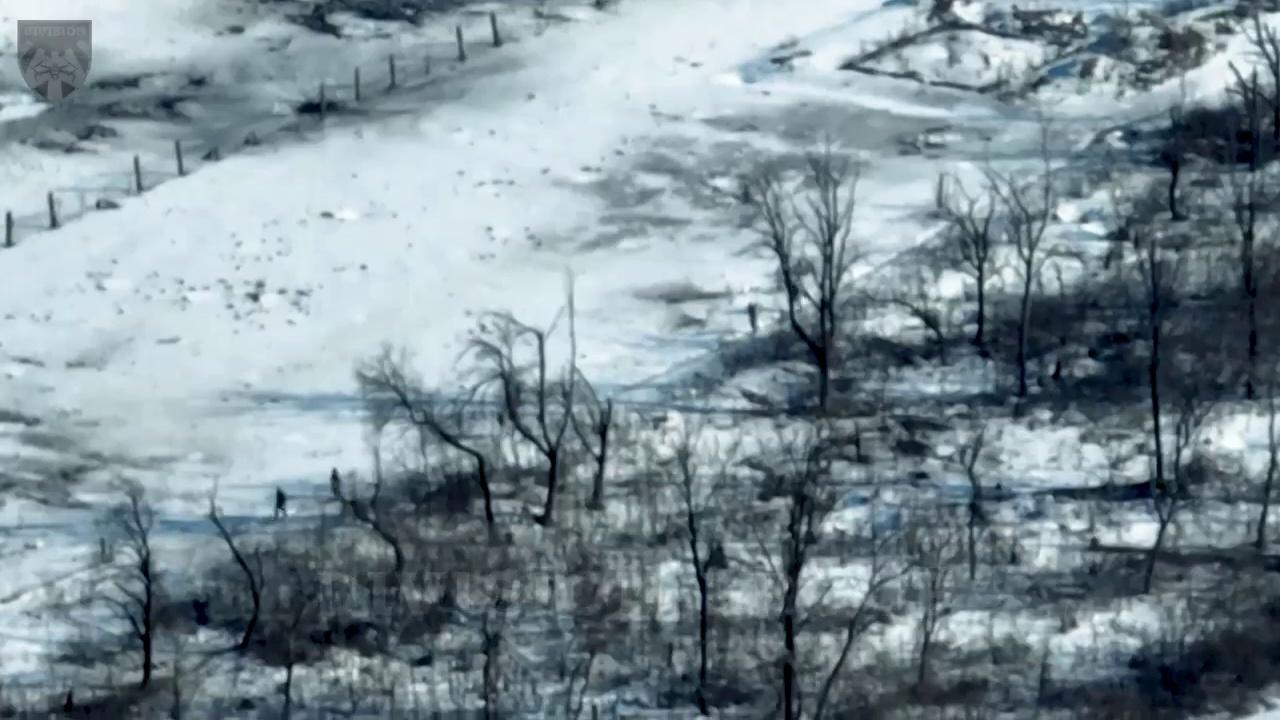person: (270, 485, 288, 520), (746, 300, 760, 336), (743, 178, 753, 206)
